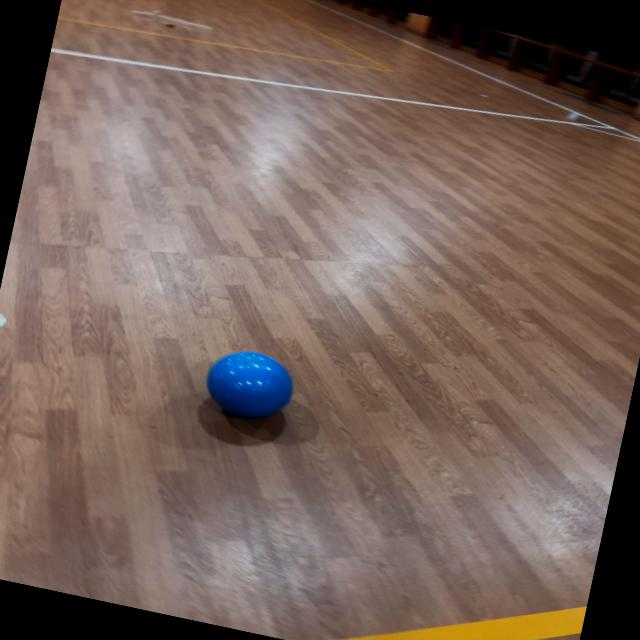blue_ball: (196, 342, 307, 432)
